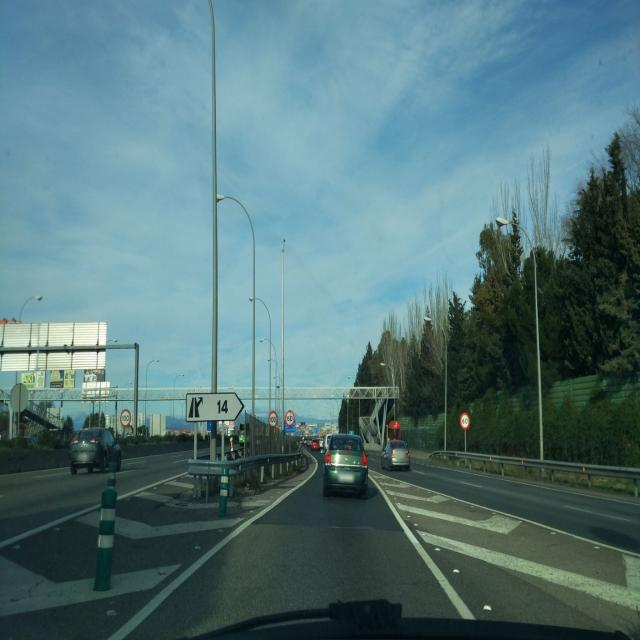car: (323, 433, 368, 498), (69, 426, 122, 474), (380, 438, 411, 472), (311, 436, 321, 452)
